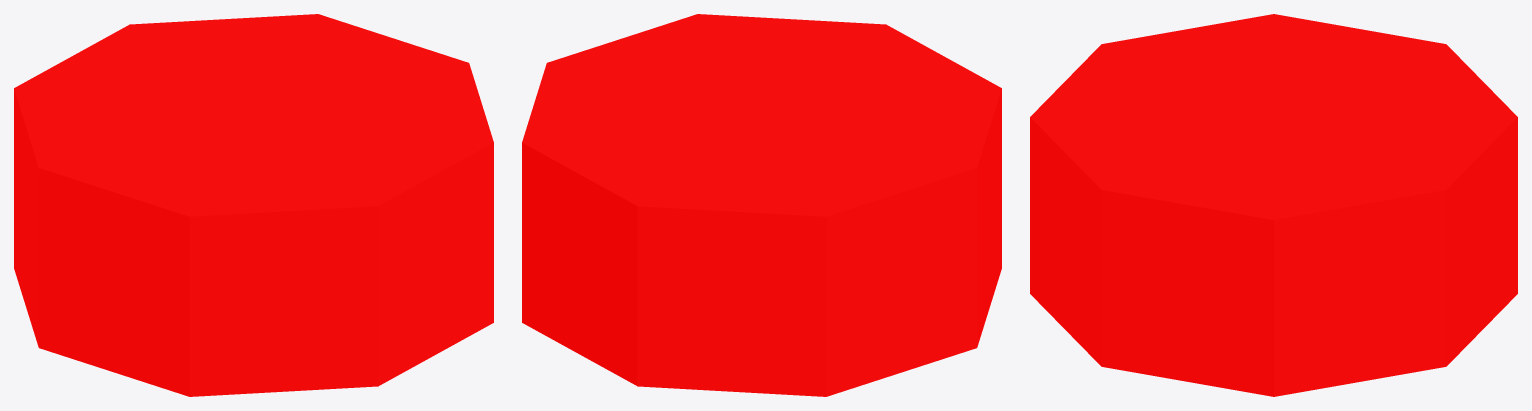
Rendered from Button.fbx.
3 views of the same model, side by side, from view 1: azimuth 30°, elevation 25°; view 2: azimuth 150°, elevation 25°; view 3: azimuth 270°, elevation 25° (orthographic).
Parts seen in each view (by area): view 1: IN; view 2: IN; view 3: IN.
Boxes of the visible parts, box(x1,y1,x2,y2) form: IN: box(14, 14, 493, 396); IN: box(522, 14, 1001, 396); IN: box(1030, 14, 1517, 396).
Bounding box in the file's own units: 12 × 4.8 × 12.
